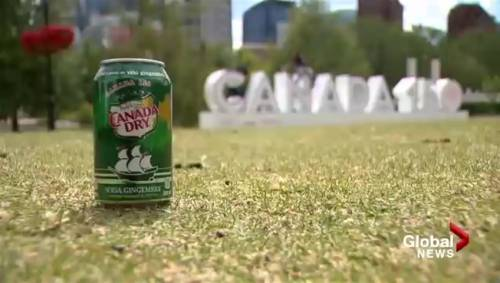Lata: (87, 55, 175, 210)
